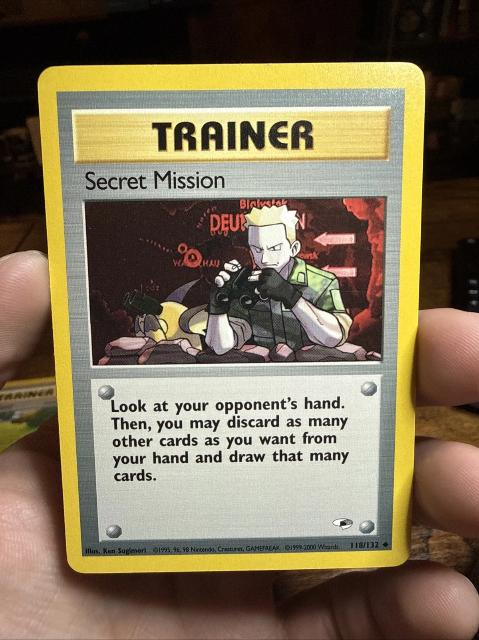Card: (31, 54, 430, 583)
Name: (76, 166, 230, 197)
